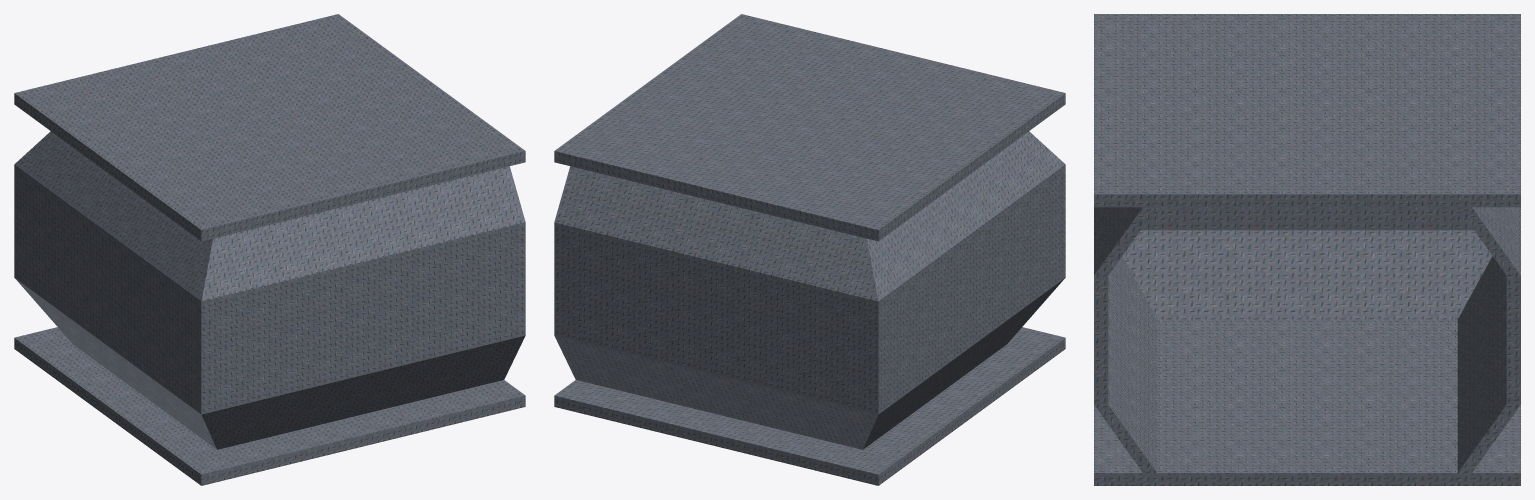
3 views of the same model, side by side, from view 1: azimuth 30°, elevation 25°; view 2: azimuth 150°, elevation 25°; view 3: azimuth 270°, elevation 25° (orthographic). The views are drawn at different scales.
Parts seen in each view (by area): view 1: SketchUp.001_ID16, SketchUp.003_ID32; view 2: SketchUp.001_ID16, SketchUp.003_ID32; view 3: SketchUp.001_ID16, SketchUp_ID3.001, SketchUp.003_ID32.
Boxes of the visible parts, <box> form: SketchUp.001_ID16: <box>14,14,525,485</box>; SketchUp.003_ID32: <box>15,327,525,474</box>; SketchUp.001_ID16: <box>554,14,1065,485</box>; SketchUp.003_ID32: <box>554,327,1064,474</box>; SketchUp.001_ID16: <box>1094,14,1520,485</box>; SketchUp_ID3.001: <box>1108,207,1506,472</box>; SketchUp.003_ID32: <box>1094,405,1520,472</box>.
Size of the model in its own units: 3 by 2.26 by 3.
Materials: 1 (1 with a texture image).
